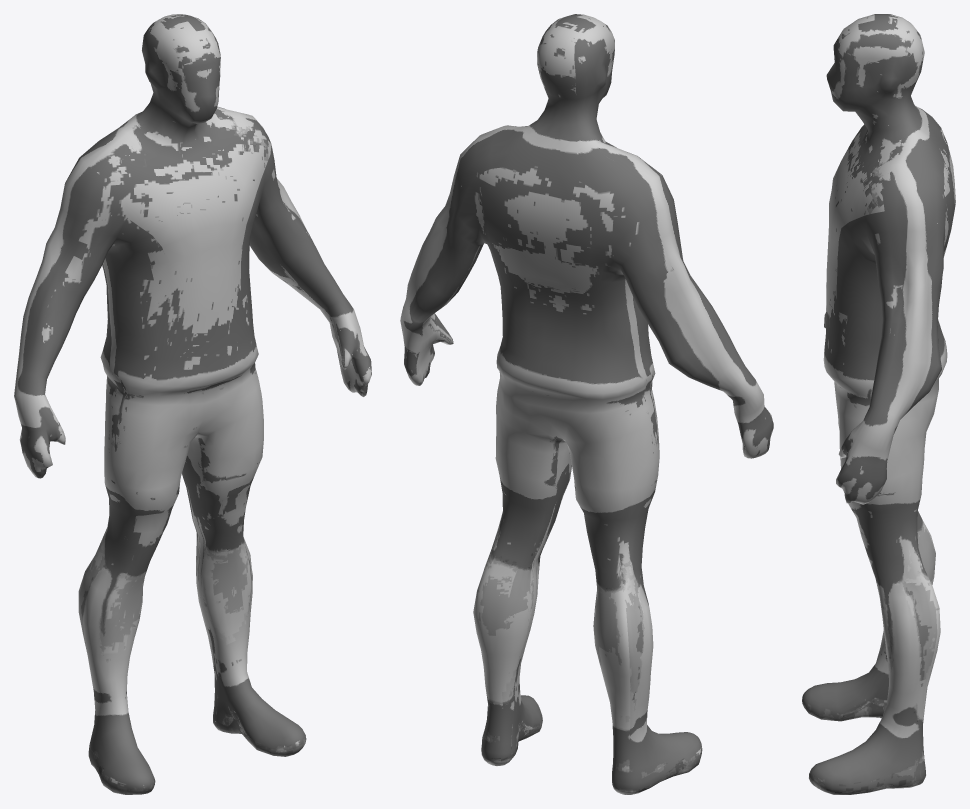
File: maniquie1.obj
3 views of the same model, side by side, from view 1: azimuth 30°, elevation 25°; view 2: azimuth 150°, elevation 25°; view 3: azimuth 270°, elevation 25° (orthographic).
Parts seen in each view (by area): view 1: maniquie8:Mesh pasted__pasted__pasted__group15 pasted__pasted__g; view 2: maniquie8:Mesh pasted__pasted__pasted__group15 pasted__pasted__g; view 3: maniquie8:Mesh pasted__pasted__pasted__group15 pasted__pasted__g.
Boxes of the visible parts, x1=… form: maniquie8:Mesh pasted__pasted__pasted__group15 pasted__pasted__g: x1=14, y1=14, x2=371, y2=794; maniquie8:Mesh pasted__pasted__pasted__group15 pasted__pasted__g: x1=400, y1=14, x2=773, y2=794; maniquie8:Mesh pasted__pasted__pasted__group15 pasted__pasted__g: x1=802, y1=14, x2=955, y2=794.
Bounding box in the file's own units: 2.45 × 4.96 × 0.9413.
Materials: 1 (1 with a texture image).
